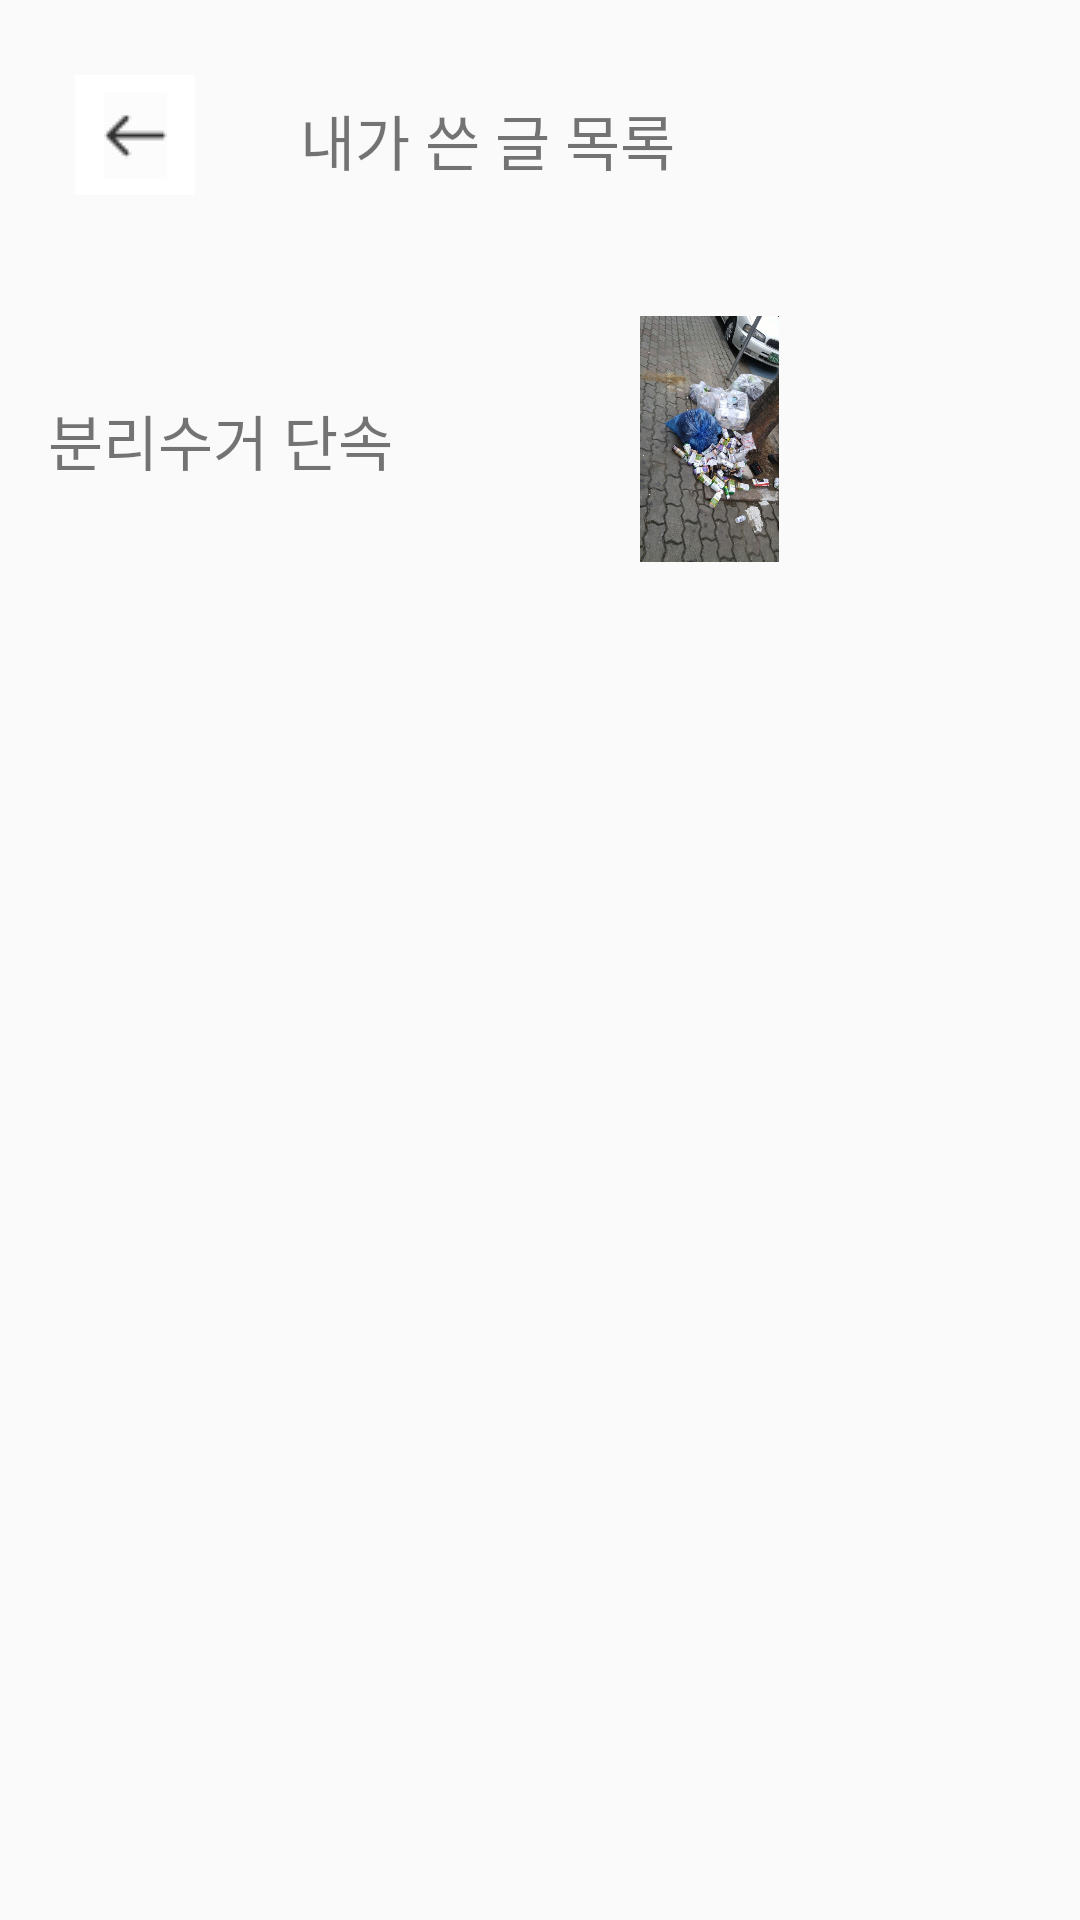

Named icons in this screenshot (1080px×1920px) and their bounding boxes, (left=x1, top=y1, right=x2, bottom=y2):
backarrow: (left=104, top=115, right=167, bottom=157)
